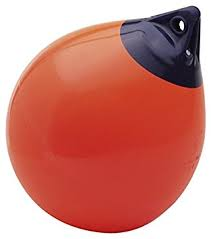buoy: (7, 20, 206, 234)
